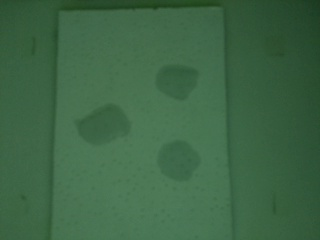Water_detected: (83, 109, 127, 143), (154, 150, 192, 185), (150, 62, 188, 91)
